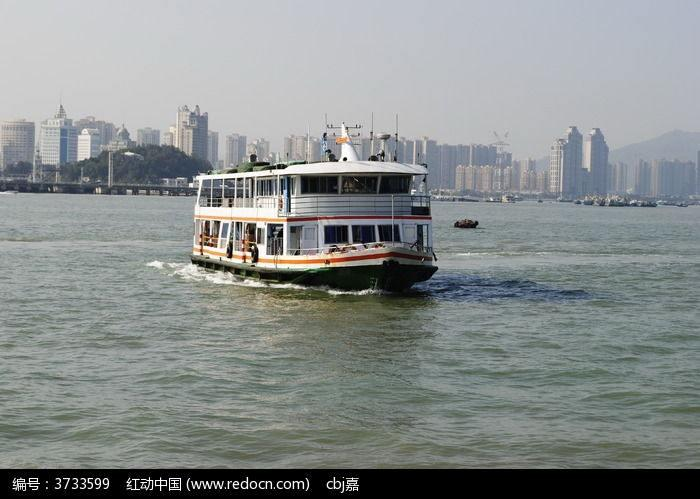youlun: (174, 115, 450, 292)
